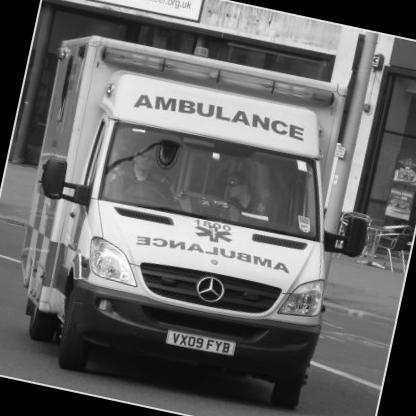ambulance: (1, 16, 413, 416)
